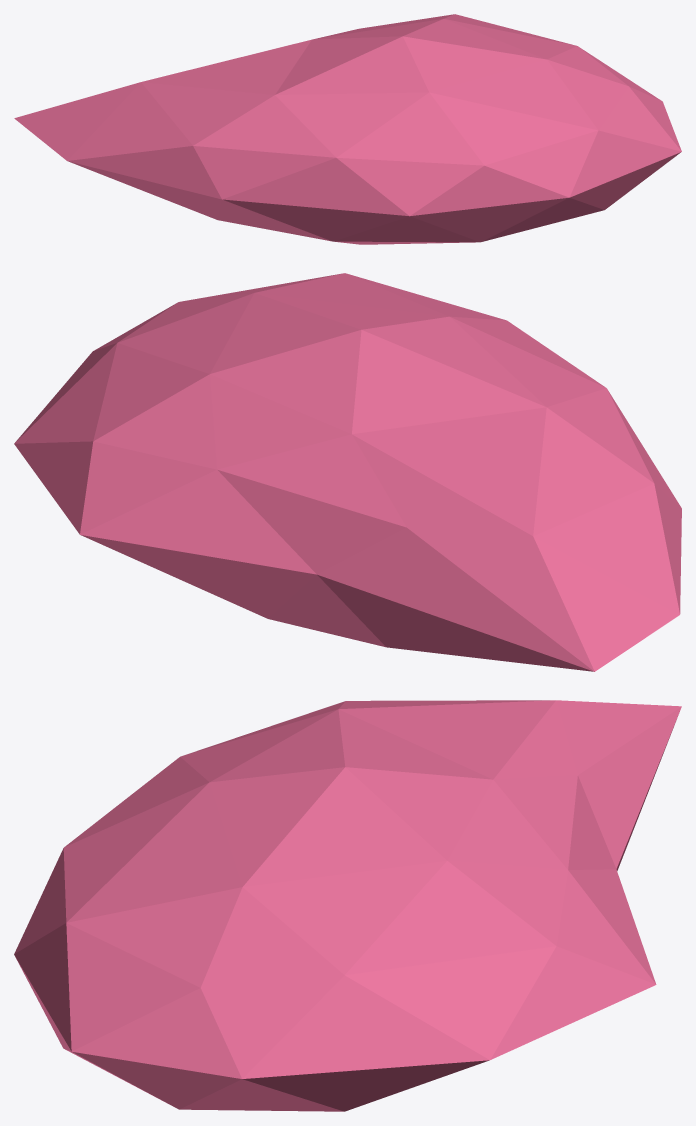
The model's file is lung_right.fbx.
3 views of the same model, one above another, from view 1: azimuth 30°, elevation 25°; view 2: azimuth 150°, elevation 25°; view 3: azimuth 270°, elevation 25° (orthographic). The views are drawn at different scales.
Parts seen in each view (by area): view 1: Icosphere.001; view 2: Icosphere.001; view 3: Icosphere.001.
Part boxes in pixels (bbox=[...]): Icosphere.001: bbox=[14, 14, 681, 244]; Icosphere.001: bbox=[14, 273, 681, 671]; Icosphere.001: bbox=[14, 700, 681, 1111].
Size of the model in its own units: 150 by 47.67 by 112.
